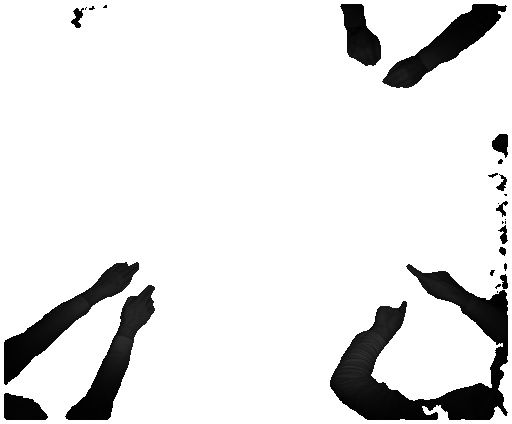fist: (344, 27, 385, 71), (382, 56, 426, 87)
hand: (89, 256, 141, 300), (406, 264, 460, 300), (121, 286, 159, 334), (372, 300, 407, 338)
